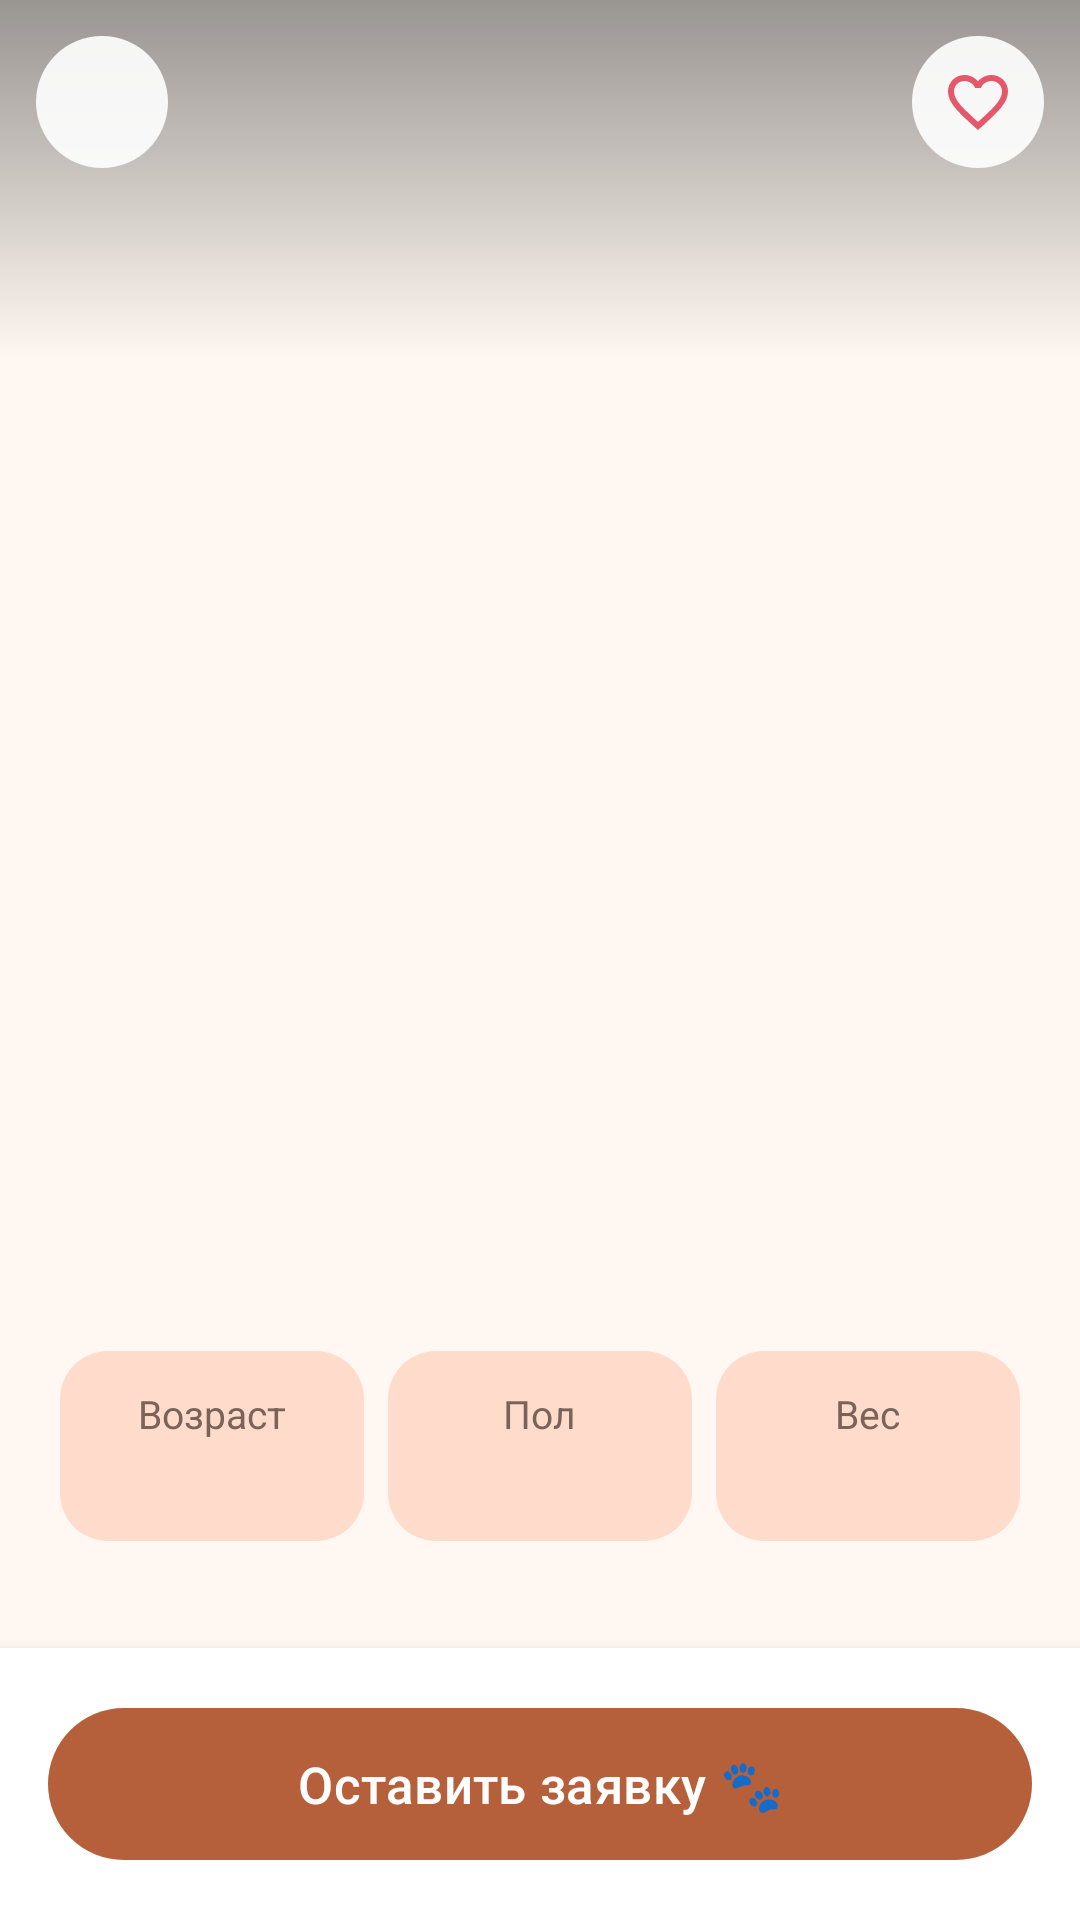

Icons on this 1080px x 1920px Android screen, each with the point to tap as point (x, y):
Добавить в избранное: point (978, 102)
